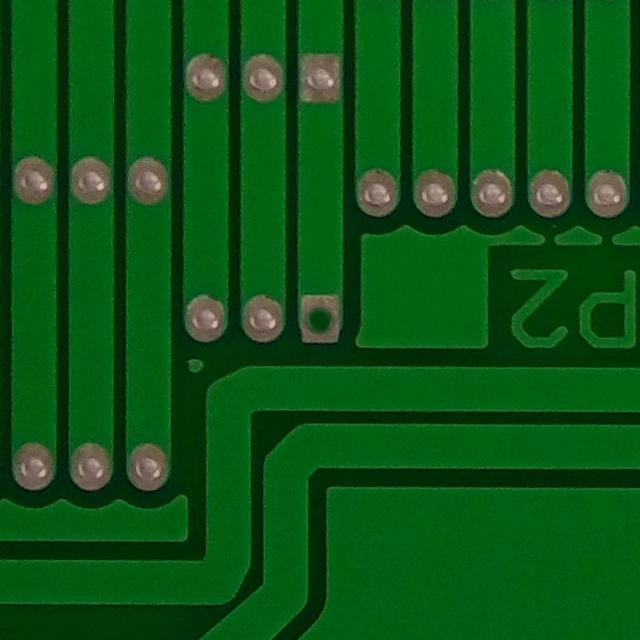missing_hole: (290, 287, 350, 354)
